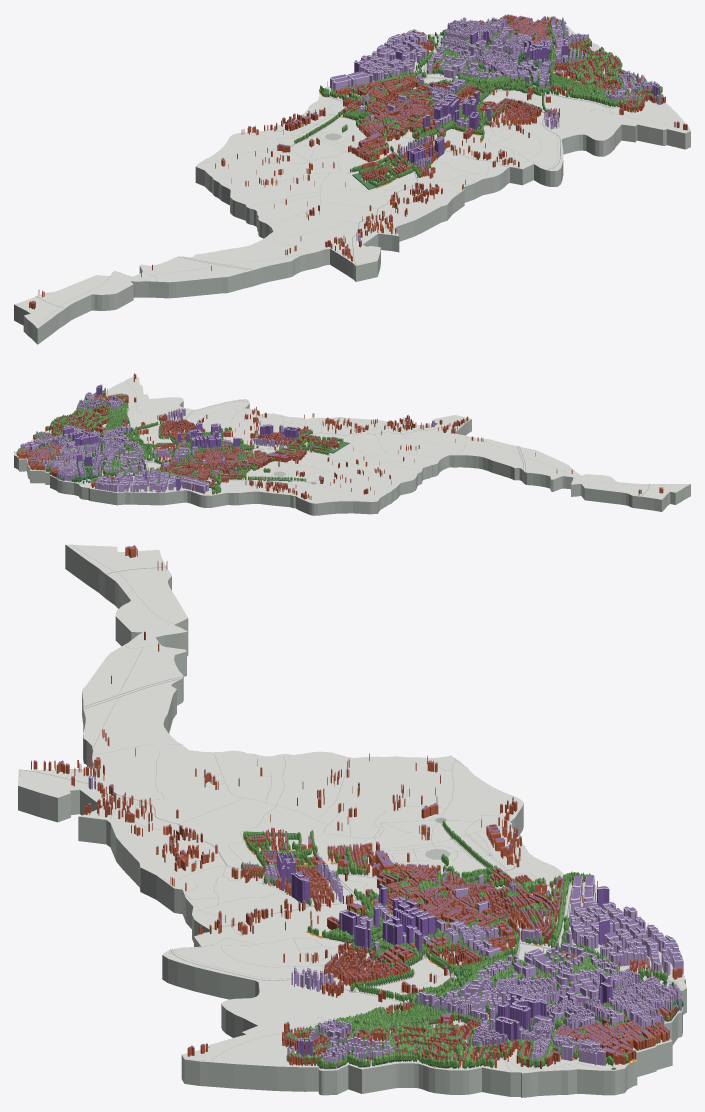
File: Mairena_Elefante_Real.glb
3 renders of one model, top to bottom at view 1: azimuth 30°, elevation 25°; view 2: azimuth 150°, elevation 25°; view 3: azimuth 270°, elevation 25°, orthographic. The views are drawn at different scales.
Visible parts, largest first — view 1: Exact OSM municipal boundary — surface, Catastro footprints missing in OSM, Exact municipal perimeter — solid base, Catastro footprints — estimated height, Exact OSM and municipal tree positions, Catastro footprints missing in OSM — roof plates, Catastro footprints — estimated height — roof plates, 1,473 OSM street geometries, Catastro footprints — OSM height documented; view 2: Exact OSM municipal boundary — surface, Exact municipal perimeter — solid base, Catastro footprints missing in OSM, Catastro footprints — estimated height, Exact OSM and municipal tree positions, Catastro footprints missing in OSM — roof plates, Catastro footprints — estimated height — roof plates, Catastro footprints — OSM height documented, 1,473 OSM street geometries, Catastro footprints — OSM height documented — roof plates; view 3: Exact OSM municipal boundary — surface, Catastro footprints missing in OSM, Exact municipal perimeter — solid base, Catastro footprints — estimated height, Exact OSM and municipal tree positions, Catastro footprints missing in OSM — roof plates, Catastro footprints — estimated height — roof plates, Catastro footprints — OSM height documented, 1,473 OSM street geometries, Catastro footprints — OSM height documented — roof plates.
Boxes of the visible parts, left/top/right/bottom form: Exact OSM municipal boundary — surface: left=14, top=25, right=690, bottom=328; Catastro footprints missing in OSM: left=29, top=14, right=687, bottom=309; Exact municipal perimeter — solid base: left=14, top=46, right=690, bottom=344; Catastro footprints — estimated height: left=330, top=17, right=661, bottom=241; Exact OSM and municipal tree positions: left=294, top=16, right=662, bottom=187; Catastro footprints missing in OSM — roof plates: left=29, top=14, right=686, bottom=303; Catastro footprints — estimated height — roof plates: left=331, top=17, right=659, bottom=233; 1,473 OSM street geometries: left=35, top=28, right=690, bottom=326; Catastro footprints — OSM height documented: left=354, top=29, right=659, bottom=163; Exact OSM municipal boundary — surface: left=14, top=377, right=690, bottom=503; Exact municipal perimeter — solid base: left=14, top=401, right=690, bottom=515; Catastro footprints missing in OSM: left=17, top=373, right=663, bottom=499; Catastro footprints — estimated height: left=20, top=388, right=434, bottom=493; Exact OSM and municipal tree positions: left=16, top=390, right=343, bottom=494; Catastro footprints missing in OSM — roof plates: left=17, top=373, right=663, bottom=494; Catastro footprints — estimated height — roof plates: left=21, top=387, right=434, bottom=486; Catastro footprints — OSM height documented: left=63, top=385, right=298, bottom=490; 1,473 OSM street geometries: left=15, top=377, right=672, bottom=501; Catastro footprints — OSM height documented — roof plates: left=63, top=384, right=297, bottom=478; Exact OSM municipal boundary — surface: left=18, top=544, right=686, bottom=1073; Catastro footprints missing in OSM: left=31, top=546, right=682, bottom=1069; Exact municipal perimeter — solid base: left=18, top=545, right=686, bottom=1097; Catastro footprints — estimated height: left=88, top=775, right=683, bottom=1069; Exact OSM and municipal tree positions: left=241, top=820, right=683, bottom=1069; Catastro footprints missing in OSM — roof plates: left=31, top=545, right=681, bottom=1060; Catastro footprints — estimated height — roof plates: left=89, top=775, right=682, bottom=1057; Catastro footprints — OSM height documented: left=277, top=851, right=614, bottom=1057; 1,473 OSM street geometries: left=18, top=544, right=684, bottom=1071; Catastro footprints — OSM height documented — roof plates: left=277, top=850, right=613, bottom=1040.
Bounding box in the file's own units: 17.59 × 0.7899 × 9.41.
